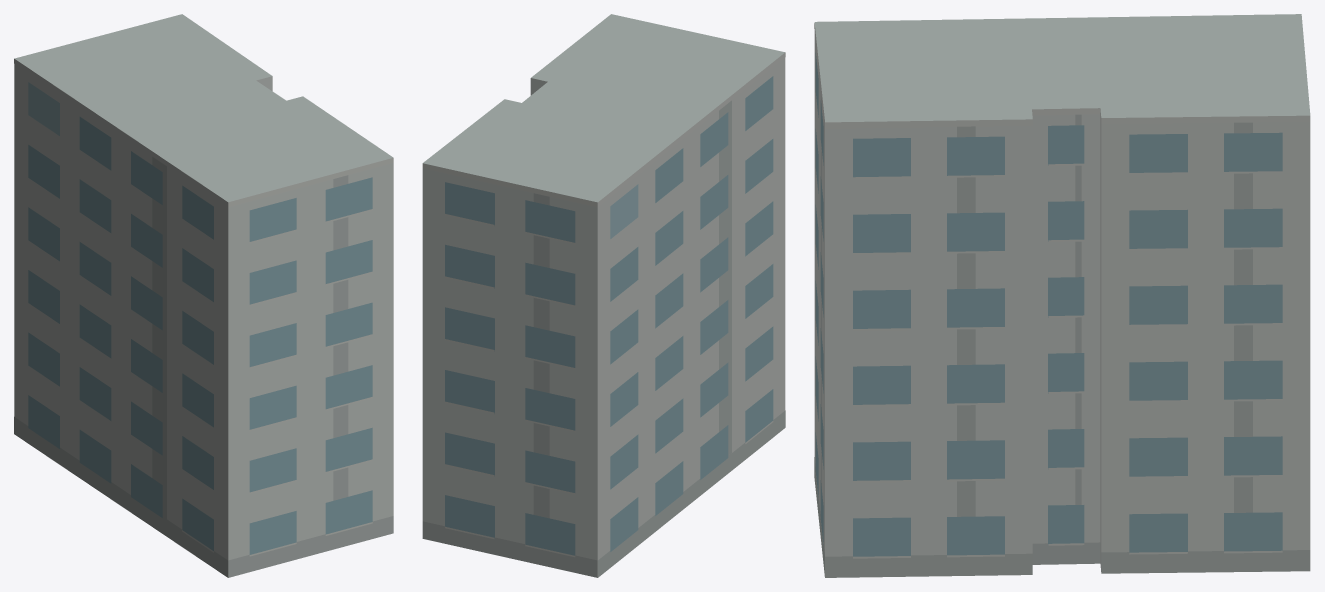
Rendered from survey-upis-33043232.glb.
The picture shows the model from 3 angles, left to right: view 1: azimuth 30°, elevation 25°; view 2: azimuth 150°, elevation 25°; view 3: azimuth 270°, elevation 25°; orthographic projection. The views are drawn at different scales.
Visible parts, largest first — view 1: survey-upis-33043232.tmp; view 2: survey-upis-33043232.tmp; view 3: survey-upis-33043232.tmp.
Part boxes in pixels (bbox=[...]): survey-upis-33043232.tmp: bbox=[14, 14, 393, 577]; survey-upis-33043232.tmp: bbox=[422, 14, 785, 577]; survey-upis-33043232.tmp: bbox=[814, 14, 1310, 577].
Size of the model in its own units: 9.09 by 17.8 by 17.57.
